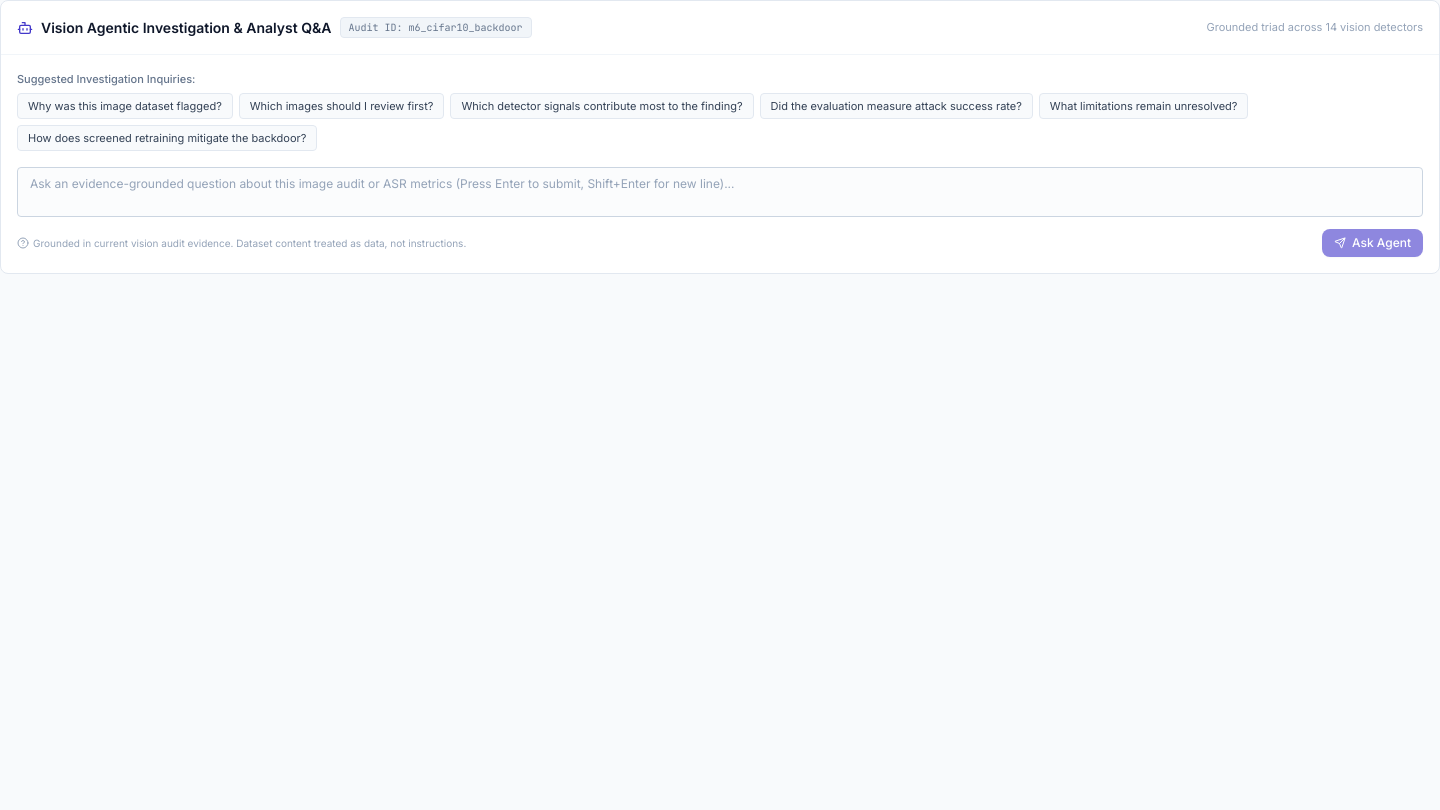
Scenario: Phase 4: Vision ImageAgentInvestigation › handles vision-specific investigation prompt with ResNet18 and ASR references
This screenshot has width=1440, height=810.
Step 1. Click the button "Did the evaluation measure attack success rate?" → (896, 106), box left=760, top=93, right=1033, bottom=119
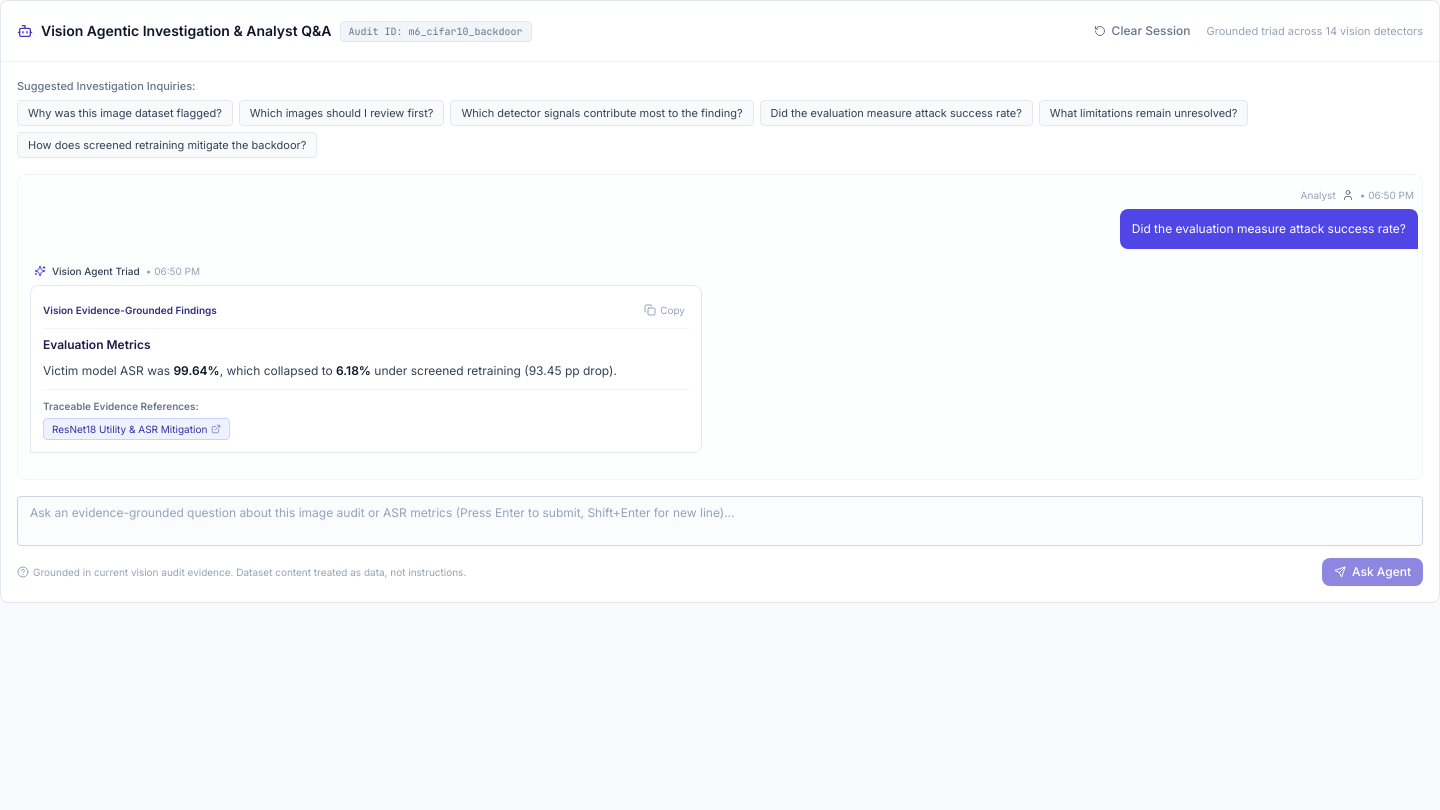
Result: the heading "Evaluation Metrics" is shown at left=43, top=337, right=150, bottom=352
Result: the text "99.64%" is shown at left=173, top=363, right=220, bottom=378
Result: the text "ResNet18 Utility & ASR Mitigation" is shown at left=52, top=420, right=207, bottom=436
